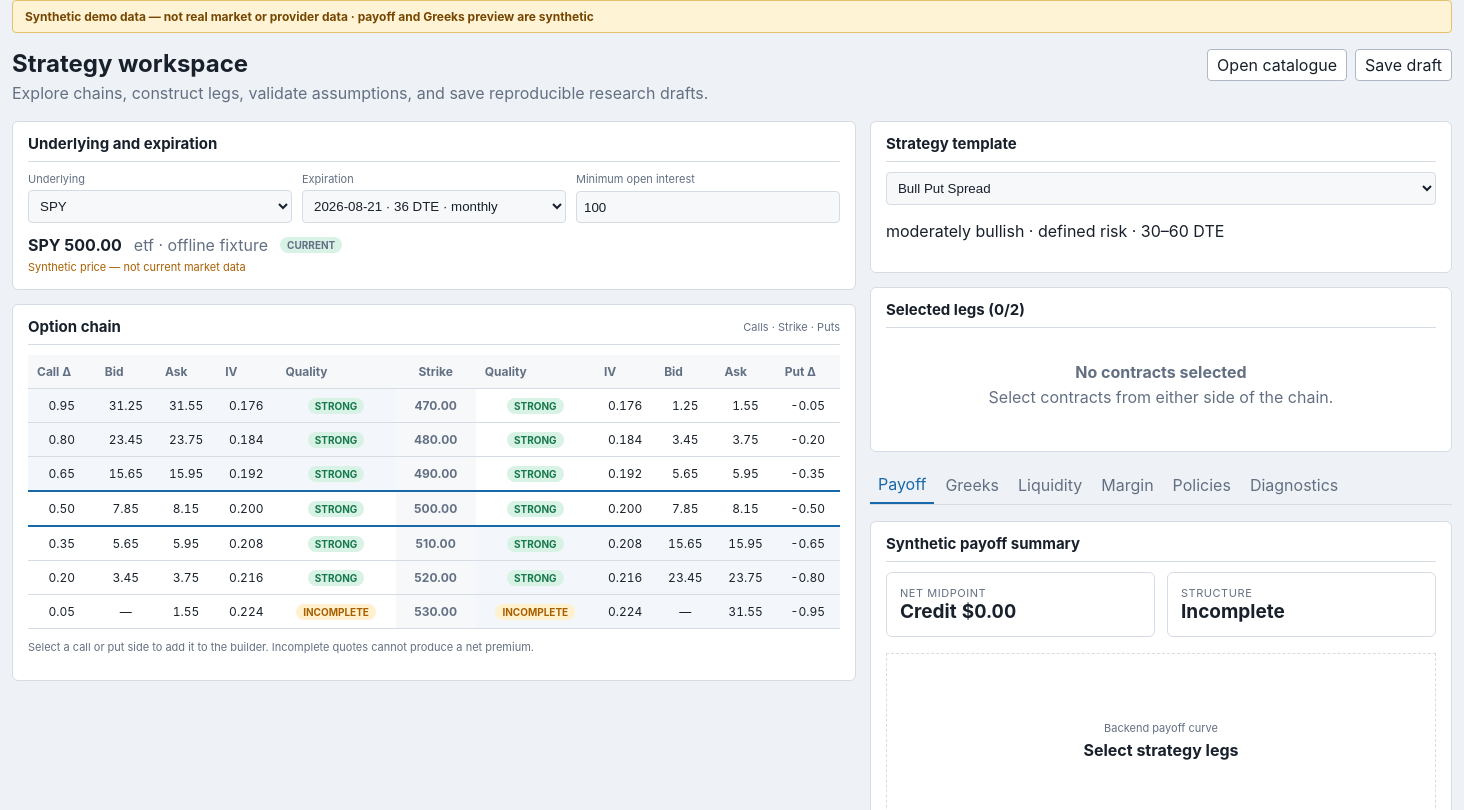
it: strategy workspace › renders a labelled synthetic chain and adds a leg
Expected: the table named "Synthetic option chain" is shown, [28, 355, 840, 629]
Click the button named "Add 2026-08-21 500 call from bid" at (126, 508), box [96, 493, 156, 524]
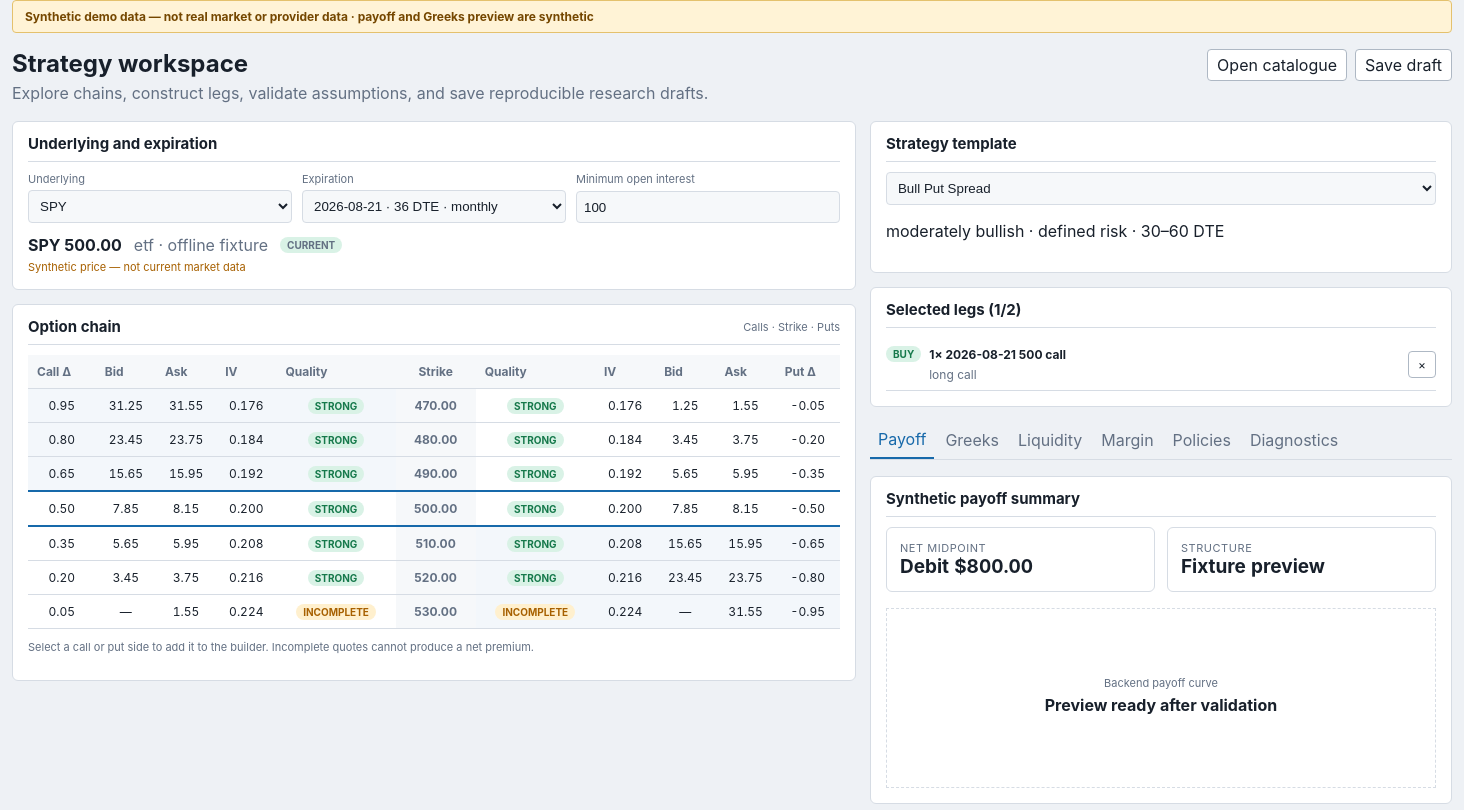
Expected: the text "Synthetic" is shown, [25, 9, 348, 24]
Result: the text "1× 2026-08-21 500 call" is shown at [929, 346, 1066, 362]
